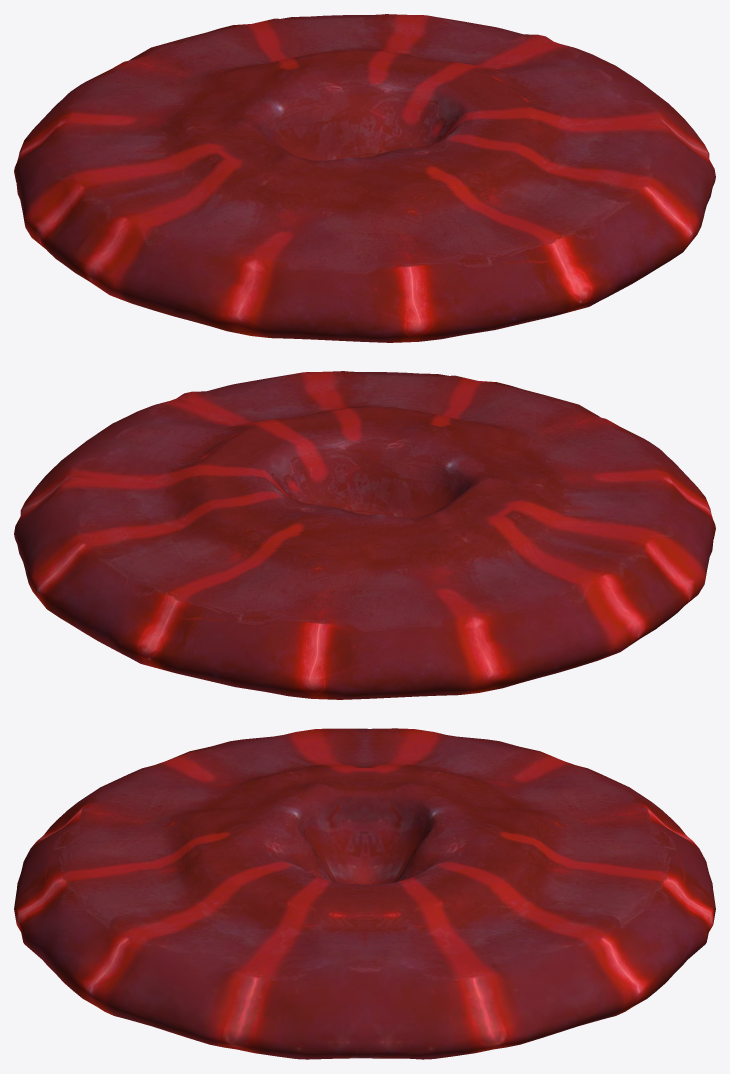
The model's file is redStation.glb.
3 renders of one model, top to bottom at view 1: azimuth 30°, elevation 25°; view 2: azimuth 150°, elevation 25°; view 3: azimuth 270°, elevation 25°, orthographic.
Visible parts, largest first — view 1: Mesh_0; view 2: Mesh_0; view 3: Mesh_0.
Boxes of the visible parts, x1,y1,x2,y2 form: Mesh_0: (14,14,715,342); Mesh_0: (14,371,715,699); Mesh_0: (14,728,715,1059).
Bounding box in the file's own units: 1.2 × 0.3204 × 1.2.
1 material, 1 textured.
